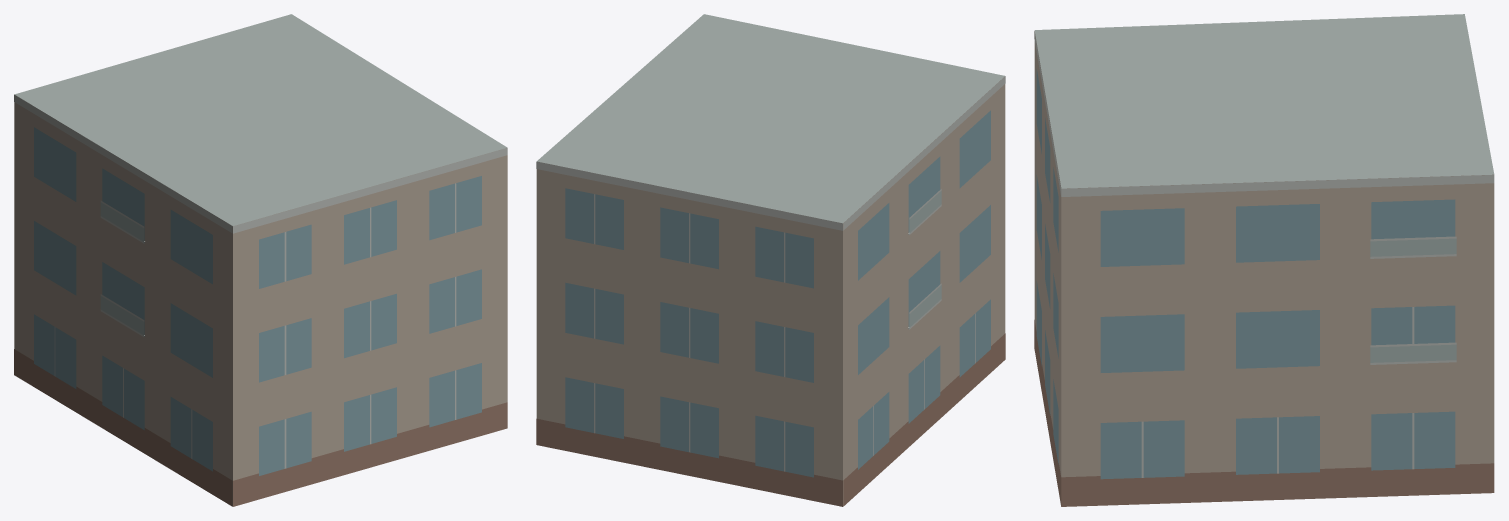
The model's file is survey-upis-32661009.glb.
3 views of the same model, side by side, from view 1: azimuth 30°, elevation 25°; view 2: azimuth 150°, elevation 25°; view 3: azimuth 270°, elevation 25° (orthographic). The views are drawn at different scales.
Parts seen in each view (by area): view 1: survey-upis-32661009.tmp; view 2: survey-upis-32661009.tmp; view 3: survey-upis-32661009.tmp.
Boxes of the visible parts, left/top/right/bottom form: survey-upis-32661009.tmp: left=14, top=14, right=507, bottom=506; survey-upis-32661009.tmp: left=536, top=14, right=1005, bottom=506; survey-upis-32661009.tmp: left=1034, top=14, right=1494, bottom=506.
Size of the model in its own units: 10.78 by 9.15 by 12.
